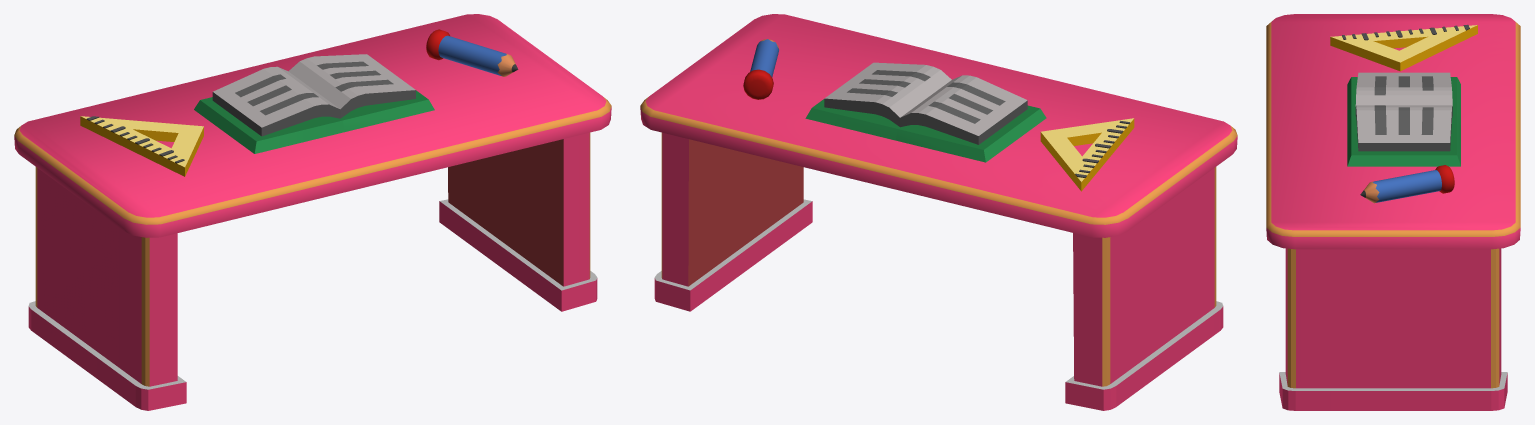
Rendered from Techer Table LEVEL-3.fbx.
3 views of the same model, side by side, from view 1: azimuth 30°, elevation 25°; view 2: azimuth 150°, elevation 25°; view 3: azimuth 270°, elevation 25° (orthographic). The views are drawn at different scales.
Parts seen in each view (by area): view 1: Techer Table LEVEL-3; view 2: Techer Table LEVEL-3; view 3: Techer Table LEVEL-3.
Boxes of the visible parts, box(x1,y1,x2,y2) form: Techer Table LEVEL-3: box(14, 14, 611, 410); Techer Table LEVEL-3: box(640, 14, 1237, 410); Techer Table LEVEL-3: box(1266, 14, 1520, 410).
Bounding box in the file's own units: 13.99 × 6.24 × 6.82.
